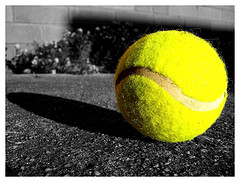tennis ball: (113, 29, 227, 142)
